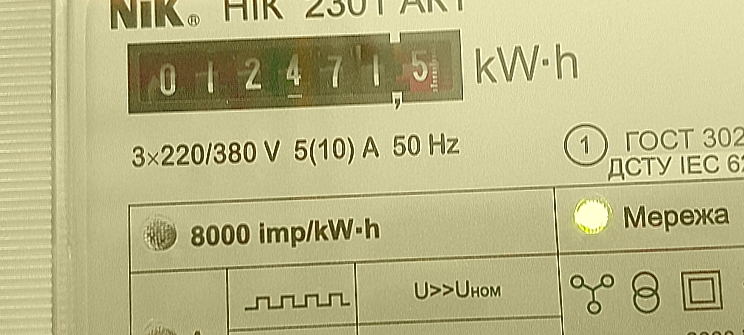0: (154, 59, 178, 96)
1: (368, 50, 380, 87), (203, 58, 215, 94)
2: (242, 54, 263, 91)
4: (283, 50, 302, 87)
5: (408, 45, 430, 83)
7: (322, 51, 343, 90)
screen: (115, 20, 474, 122)
